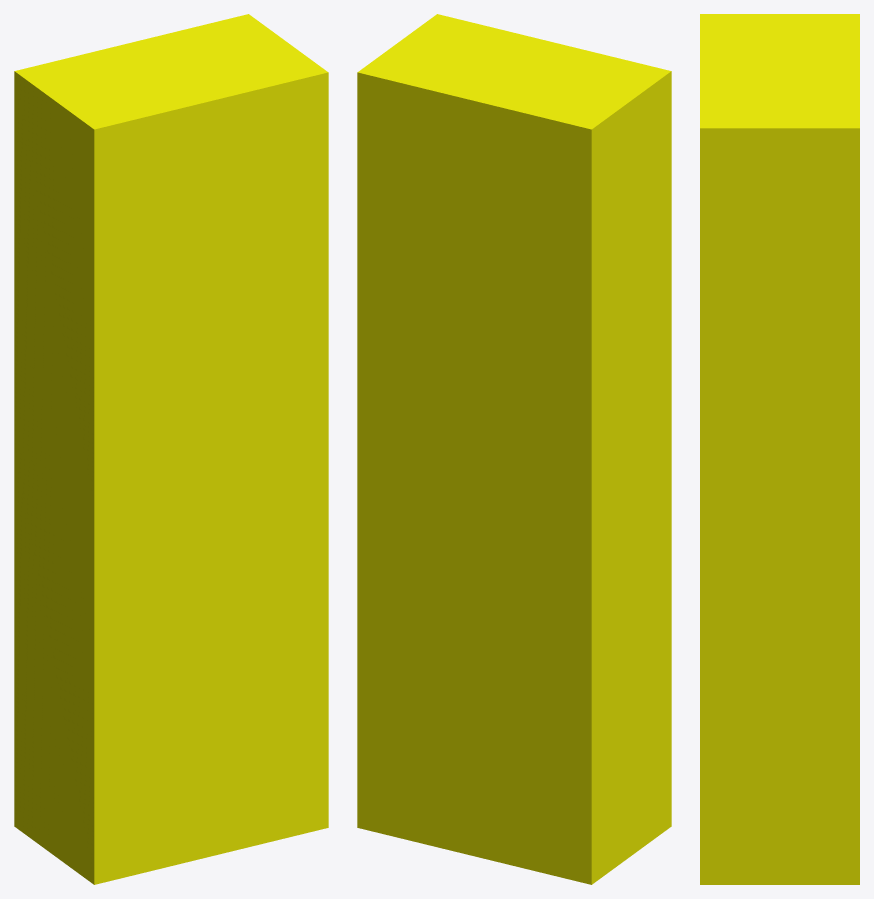
Rendered from Special_I.fbx.
The picture shows the model from 3 angles, left to right: view 1: azimuth 30°, elevation 25°; view 2: azimuth 150°, elevation 25°; view 3: azimuth 270°, elevation 25°; orthographic projection.
Visible parts, largest first — view 1: Special_I; view 2: Special_I; view 3: Special_I.
Boxes of the visible parts, box(x1,y1,x2,y2) form: Special_I: box(14, 14, 328, 884); Special_I: box(357, 14, 671, 884); Special_I: box(700, 14, 859, 884).
Bounding box in the file's own units: 33.89 × 104 × 20.
